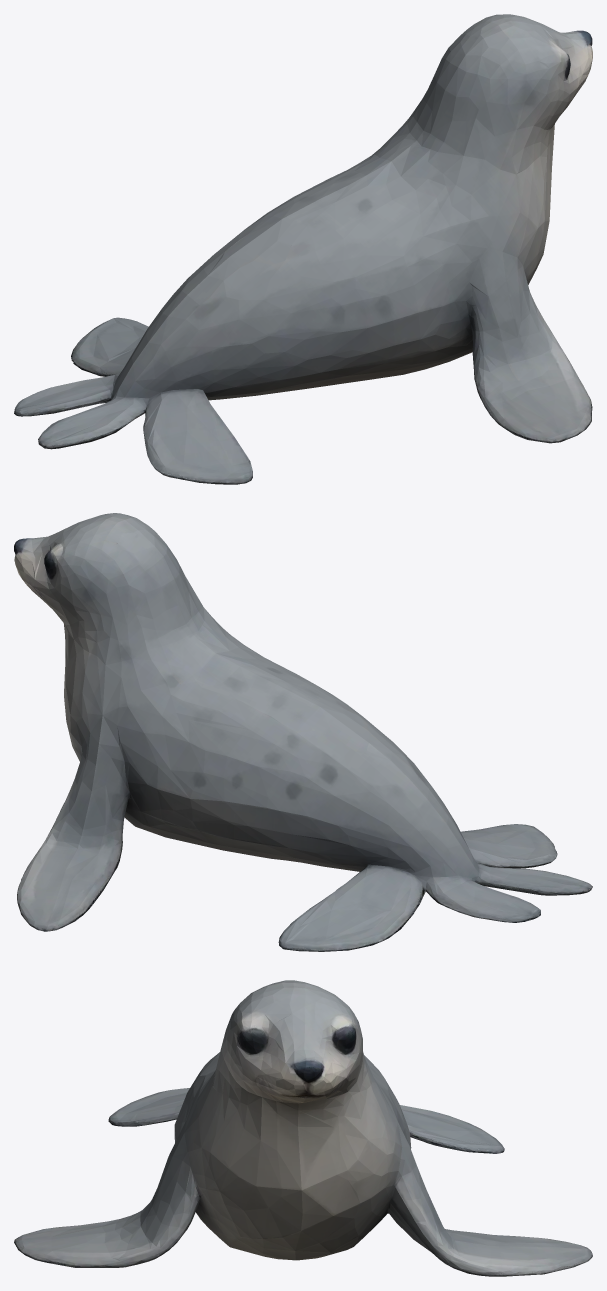
File: seal.glb
The picture shows the model from 3 angles, top to bottom: view 1: azimuth 30°, elevation 25°; view 2: azimuth 150°, elevation 25°; view 3: azimuth 270°, elevation 25°; orthographic projection. The views are drawn at different scales.
Parts seen in each view (by area): view 1: world; view 2: world; view 3: world.
Boxes of the visible parts, left/top/right/bottom form: world: left=14, top=14, right=592, bottom=484; world: left=14, top=513, right=592, bottom=951; world: left=14, top=980, right=592, bottom=1276.
Bounding box in the file's own units: 0.999 × 0.5119 × 0.8652.
Materials: 1 (1 with a texture image).
